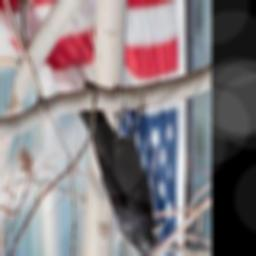Crow: (76, 88, 165, 256)
